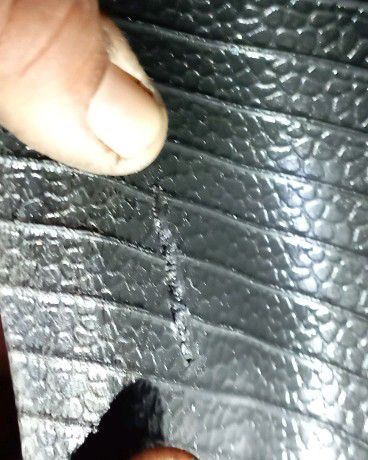cut: (143, 168, 204, 375)
